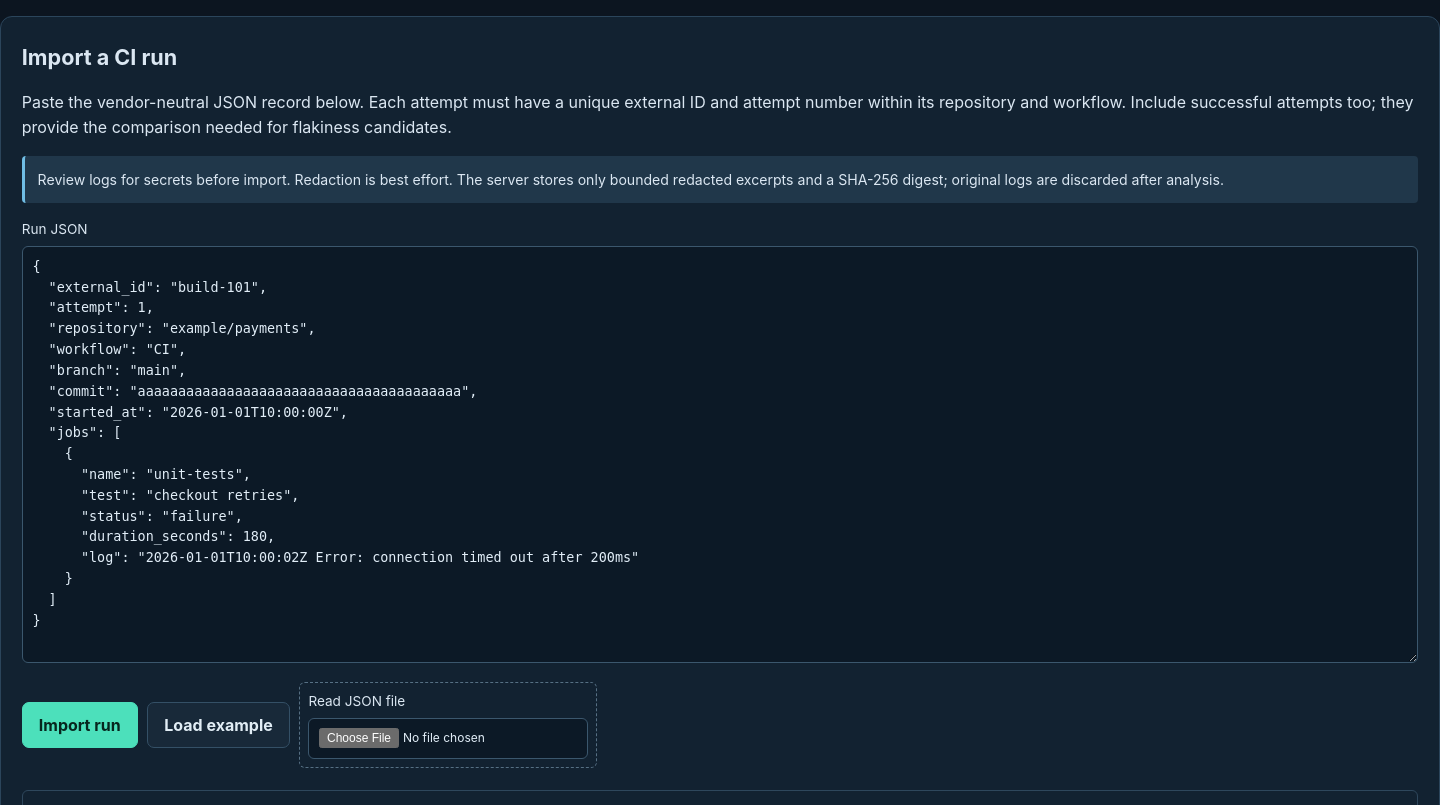
Test case: CI workflows › rejects invalid JSON before contacting the API
The width and height of the screenshot is (1440, 805).
Replace the text in the text box labelled "Run JSON" with "not JSON" at (720, 455), box [22,246,1418,663]
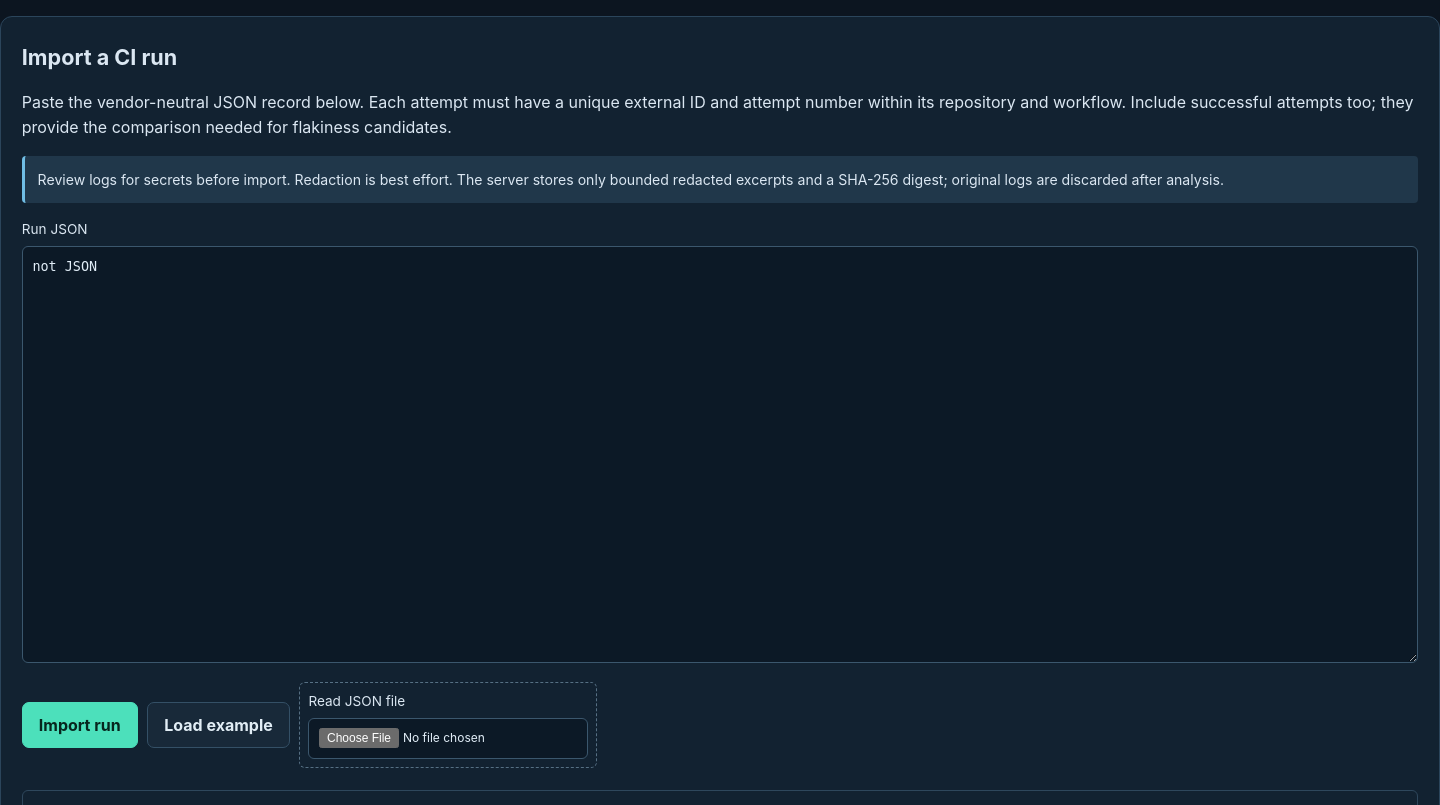
Click the button "Import run" at (80, 725), box [22,702,138,748]
(page scrolled)
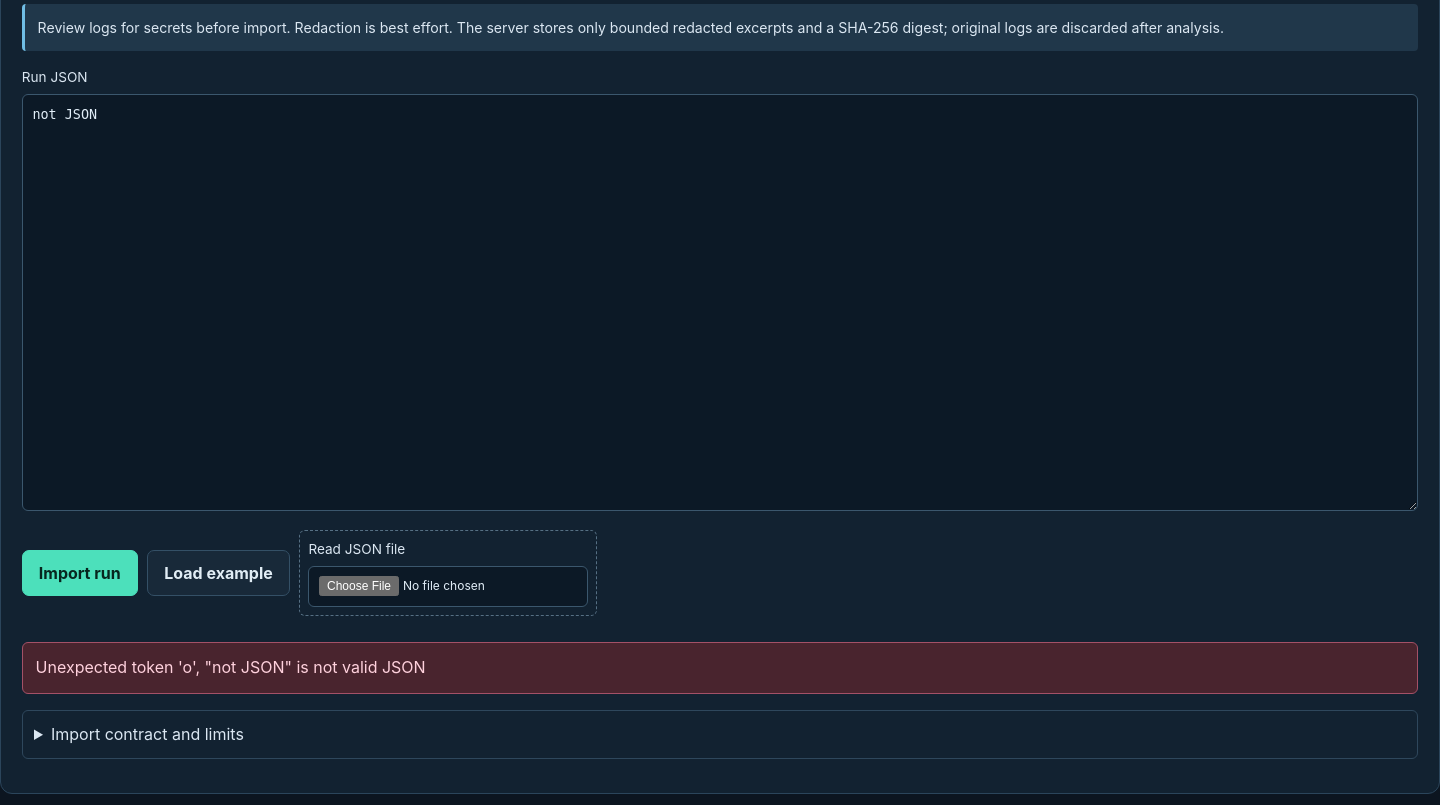
Now the message is shown, box [22,642,1418,694]
